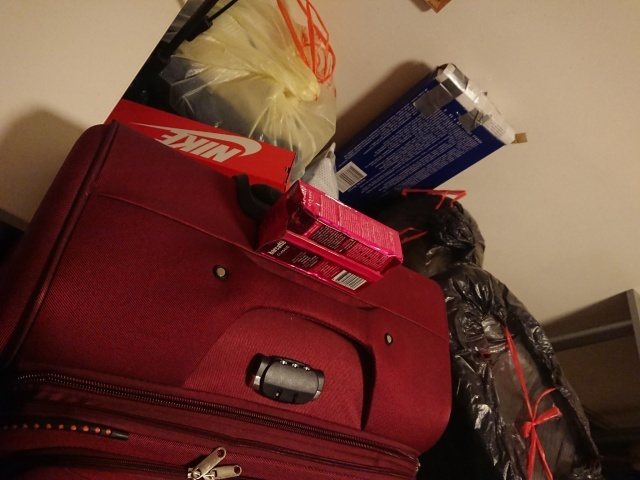Barcaffe Classic Original 225g: (253, 178, 406, 300)
